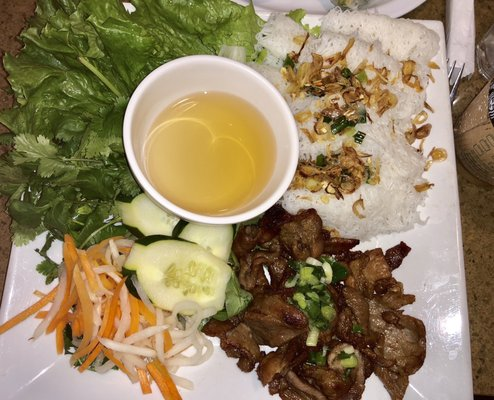sushi: (122, 54, 300, 226)
